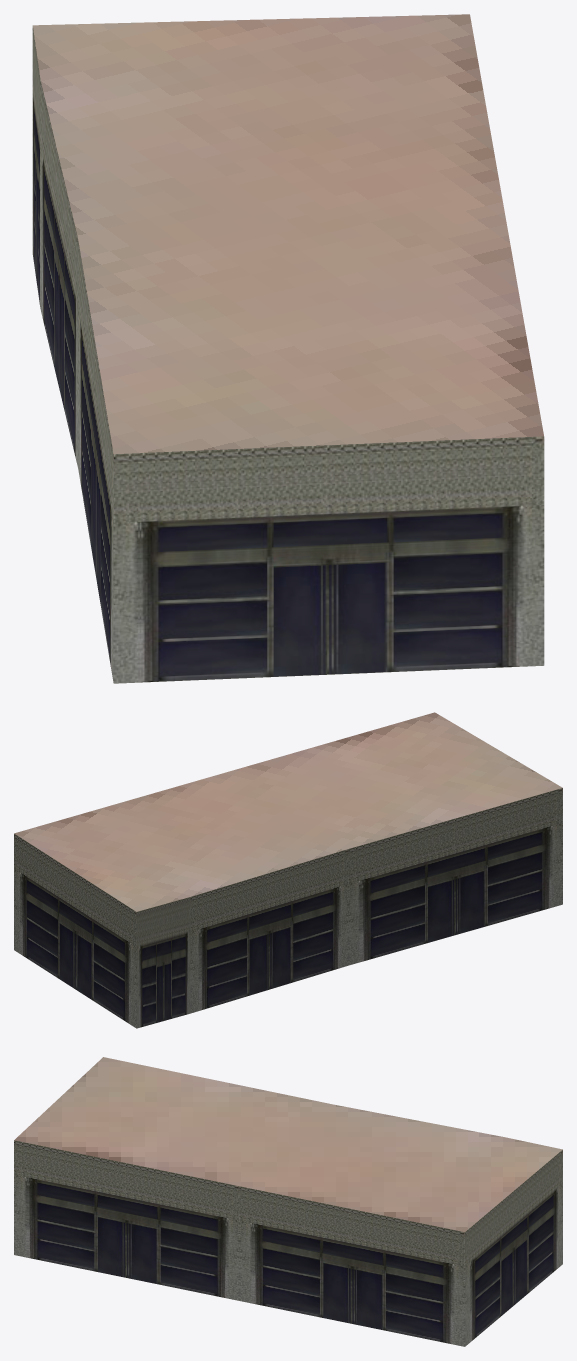
Rendered from T_1T55V4PHME.dae.
The picture shows the model from 3 angles, top to bottom: view 1: azimuth 30°, elevation 25°; view 2: azimuth 150°, elevation 25°; view 3: azimuth 270°, elevation 25°; orthographic projection. The views are drawn at different scales.
Visible parts, largest first — view 1: SketchUp (×5); view 2: SketchUp (×5); view 3: SketchUp (×3).
Part boxes in pixels (x1,y1,x2,y2): SketchUp (×5): (32, 14, 544, 683); SketchUp (×5): (14, 712, 562, 1028); SketchUp (×3): (14, 1057, 562, 1346).
Bounding box in the file's own units: 8.81 × 11.67 × 2.69.
2 materials, 2 textured.
